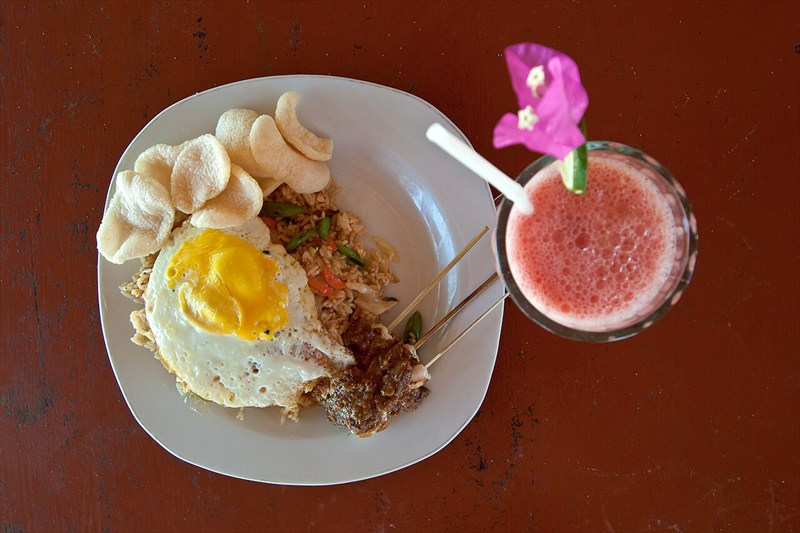Nasi Goreng: (92, 66, 673, 418)
